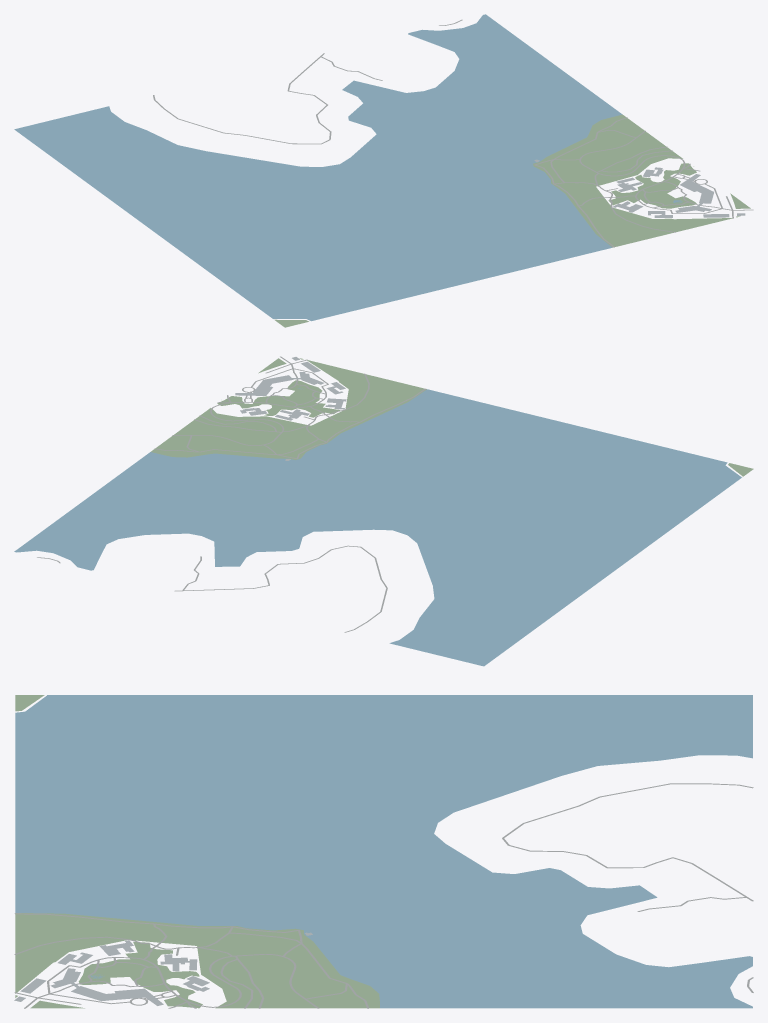
The model's file is -8_7-known-fine.glb.
The picture shows the model from 3 angles, top to bottom: view 1: azimuth 30°, elevation 25°; view 2: azimuth 150°, elevation 25°; view 3: azimuth 270°, elevation 25°; orthographic projection. The views are drawn at different scales.
Size of the model in its own units: 1002 by 0.15 by 998.
